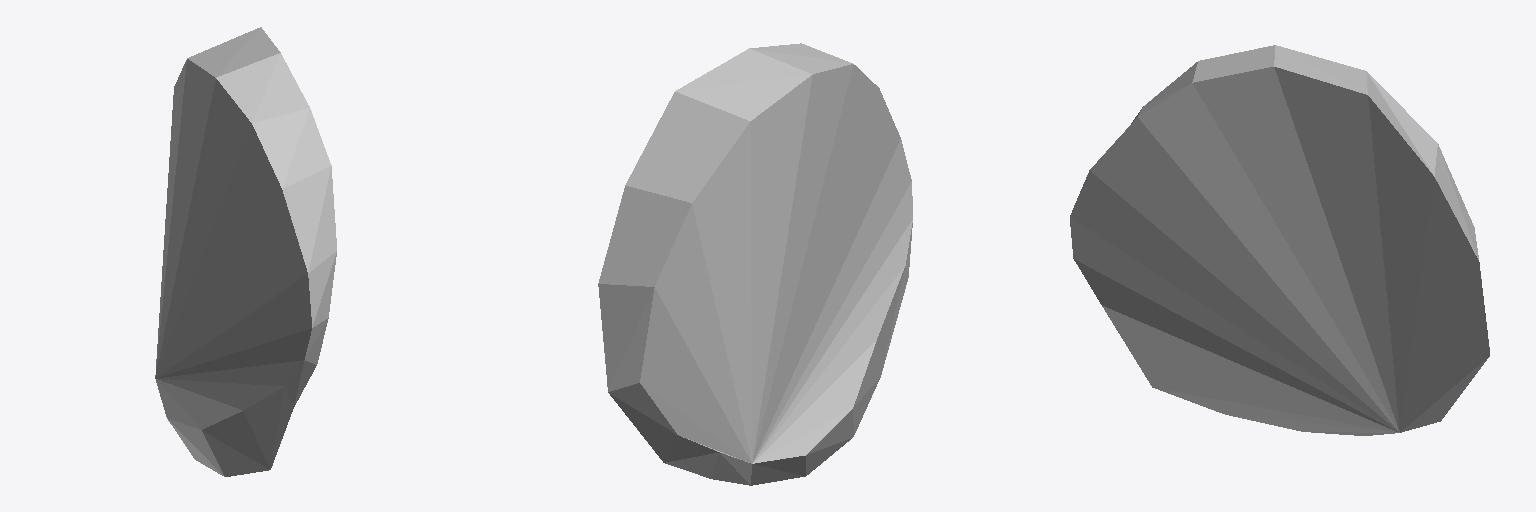
The model's file is epaule_droite.obj.
3 renders of one model, left to right at view 1: azimuth 30°, elevation 25°; view 2: azimuth 150°, elevation 25°; view 3: azimuth 270°, elevation 25°, orthographic.
Parts seen in each view (by area): view 1: Soi_SimpleArmor.001_Plane.022; view 2: Soi_SimpleArmor.001_Plane.022; view 3: Soi_SimpleArmor.001_Plane.022.
Boxes of the visible parts, x1=… form: Soi_SimpleArmor.001_Plane.022: x1=155, y1=27, x2=336, y2=476; Soi_SimpleArmor.001_Plane.022: x1=598, y1=43, x2=912, y2=485; Soi_SimpleArmor.001_Plane.022: x1=1070, y1=45, x2=1489, y2=435.
Bounding box in the file's own units: 0.0866 × 0.2365 × 0.2255.